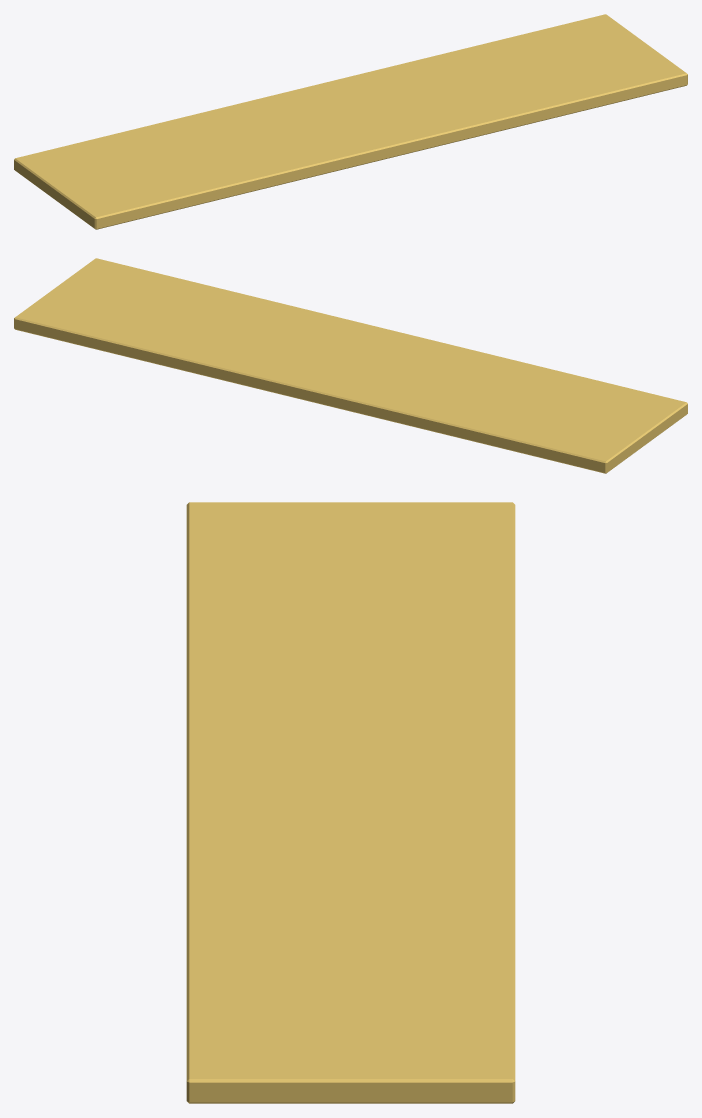
The model's file is SM_Deck_10x0p2x2p4.glb.
The picture shows the model from 3 angles, top to bottom: view 1: azimuth 30°, elevation 25°; view 2: azimuth 150°, elevation 25°; view 3: azimuth 270°, elevation 25°; orthographic projection. The views are drawn at different scales.
Parts seen in each view (by area): view 1: SM_Deck_10x0p2x2p4; view 2: SM_Deck_10x0p2x2p4; view 3: SM_Deck_10x0p2x2p4.
Boxes of the visible parts, bbox=[...] form: SM_Deck_10x0p2x2p4: bbox=[14, 14, 687, 229]; SM_Deck_10x0p2x2p4: bbox=[14, 258, 687, 473]; SM_Deck_10x0p2x2p4: bbox=[186, 502, 515, 1103].
Bounding box in the file's own units: 10 × 0.2682 × 2.4.
